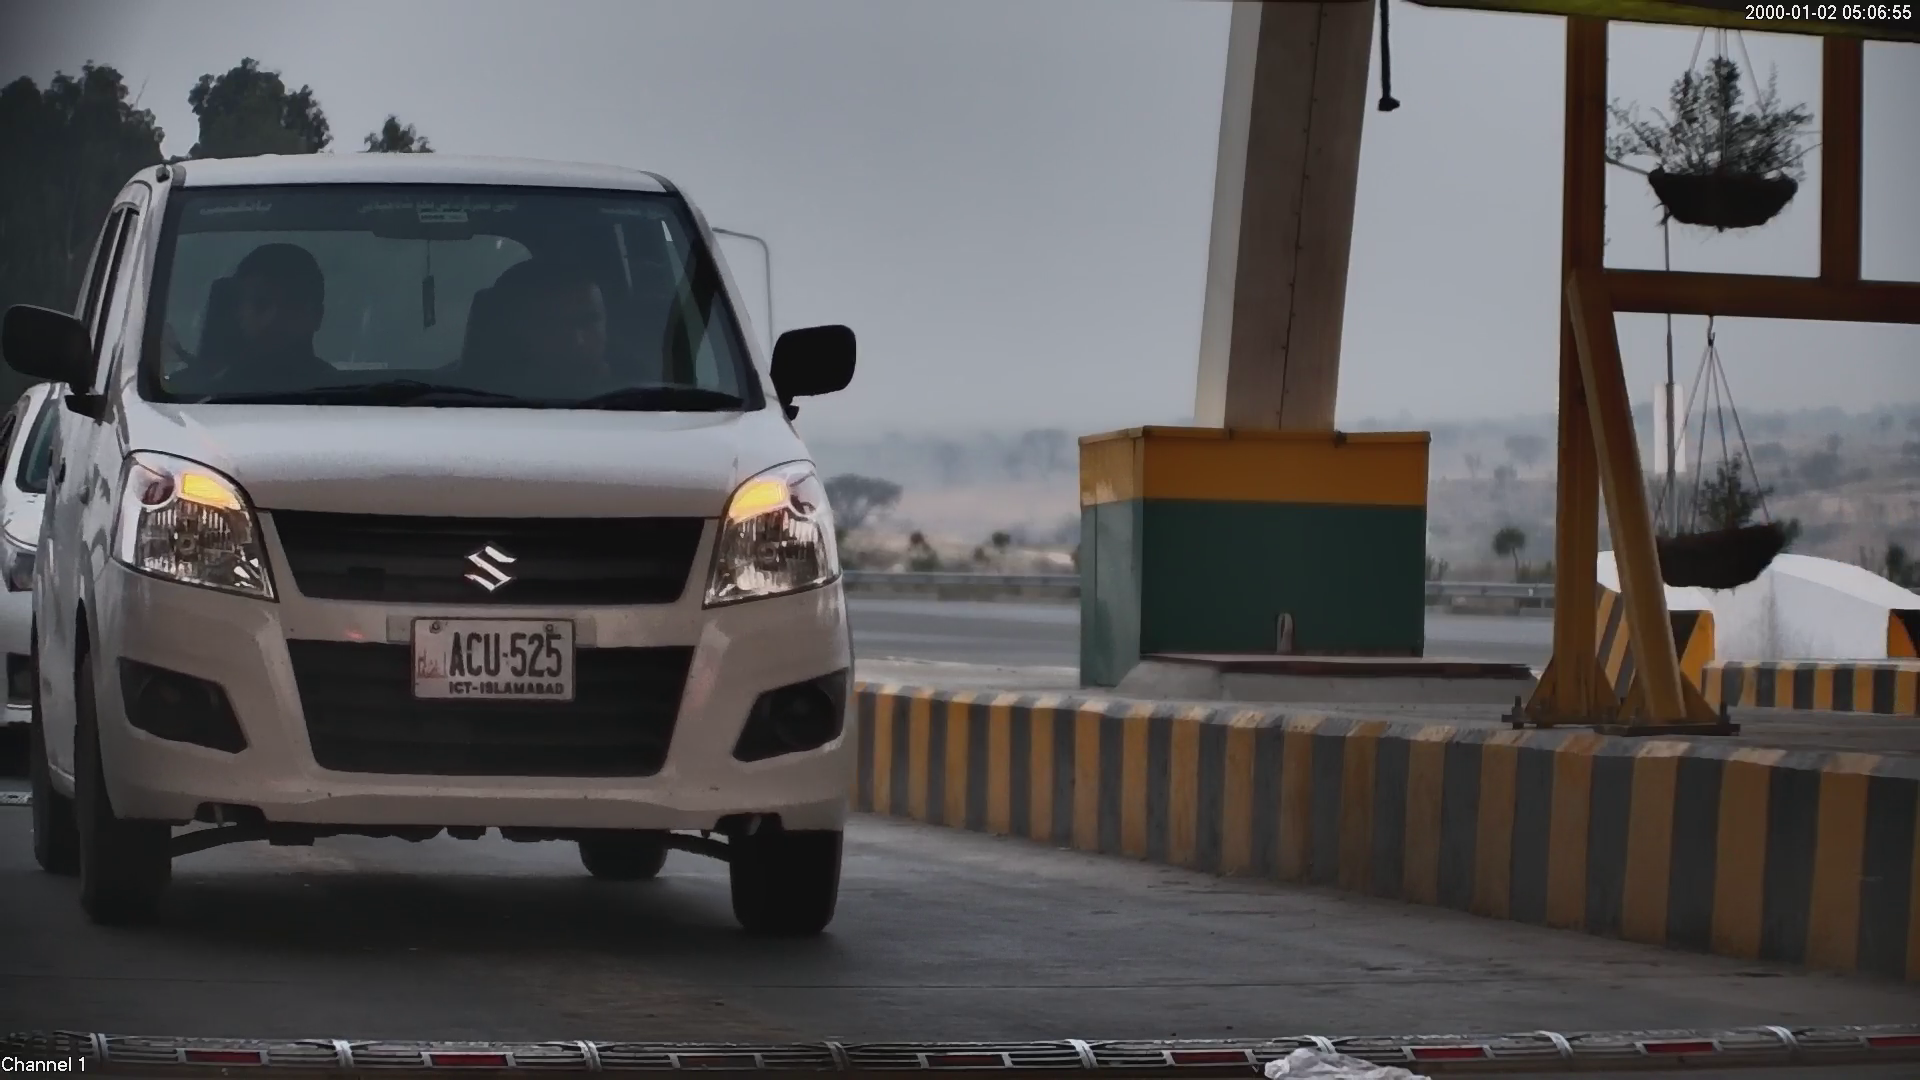Number_Plate: (401, 600, 587, 716)
